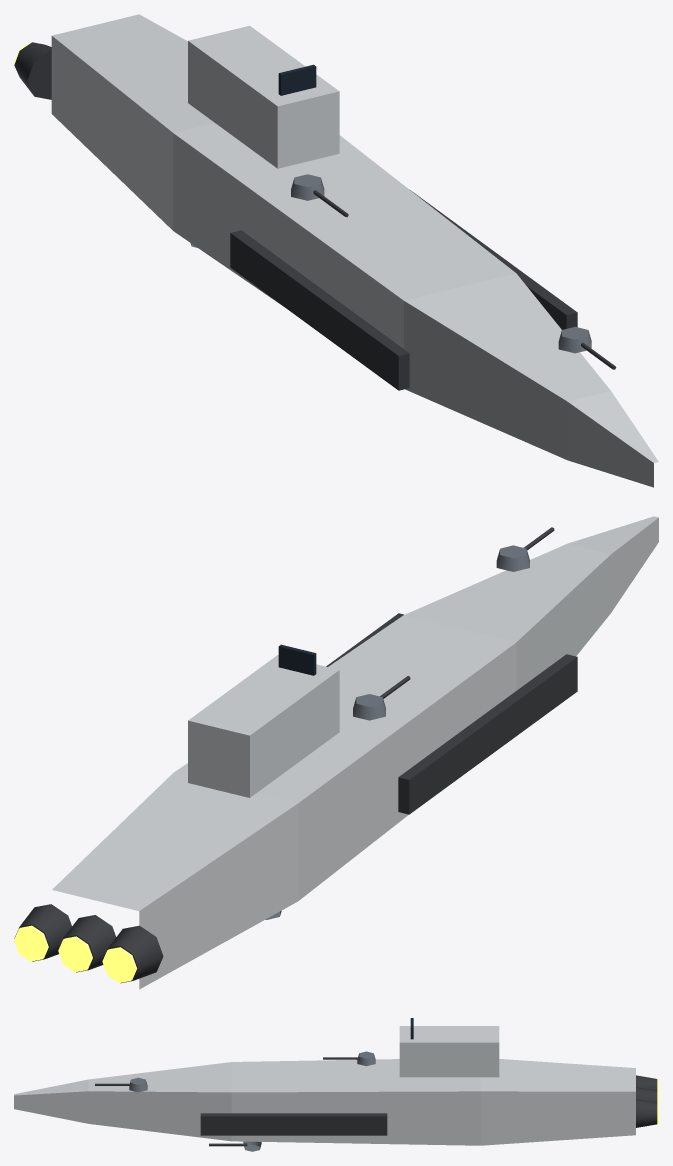
Rendered from space_ship_destroyer_mk1.glb.
3 renders of one model, top to bottom at view 1: azimuth 30°, elevation 25°; view 2: azimuth 150°, elevation 25°; view 3: azimuth 270°, elevation 25°, orthographic. The views are drawn at different scales.
Visible parts, largest first — view 1: body, engine_0, turret_0, turret_2; view 2: body, engine_0, engine_1, engine_2, turret_0, turret_2; view 3: body, engine_2, turret_0, turret_2, turret_1, engine_1, engine_0.
Part boxes in pixels (left/top/right/bottom): body: left=51, top=14, right=658, bottom=487; engine_0: left=14, top=42, right=51, bottom=99; turret_0: left=558, top=326, right=616, bottom=369; turret_2: left=291, top=174, right=348, bottom=217; body: left=52, top=516, right=658, bottom=989; engine_0: left=102, top=925, right=163, bottom=983; engine_1: left=58, top=915, right=115, bottom=972; engine_2: left=14, top=904, right=71, bottom=961; turret_0: left=496, top=527, right=554, bottom=571; turret_2: left=353, top=676, right=410, bottom=720; body: left=14, top=1018, right=635, bottom=1145; engine_2: left=636, top=1099, right=658, bottom=1127; turret_0: left=95, top=1077, right=147, bottom=1092; turret_2: left=323, top=1051, right=375, bottom=1066; turret_1: left=209, top=1141, right=261, bottom=1151; engine_1: left=636, top=1087, right=658, bottom=1103; engine_0: left=636, top=1075, right=658, bottom=1091.
Size of what is drawn, in the model's own units: 8.1 by 9.14 by 45.62.
